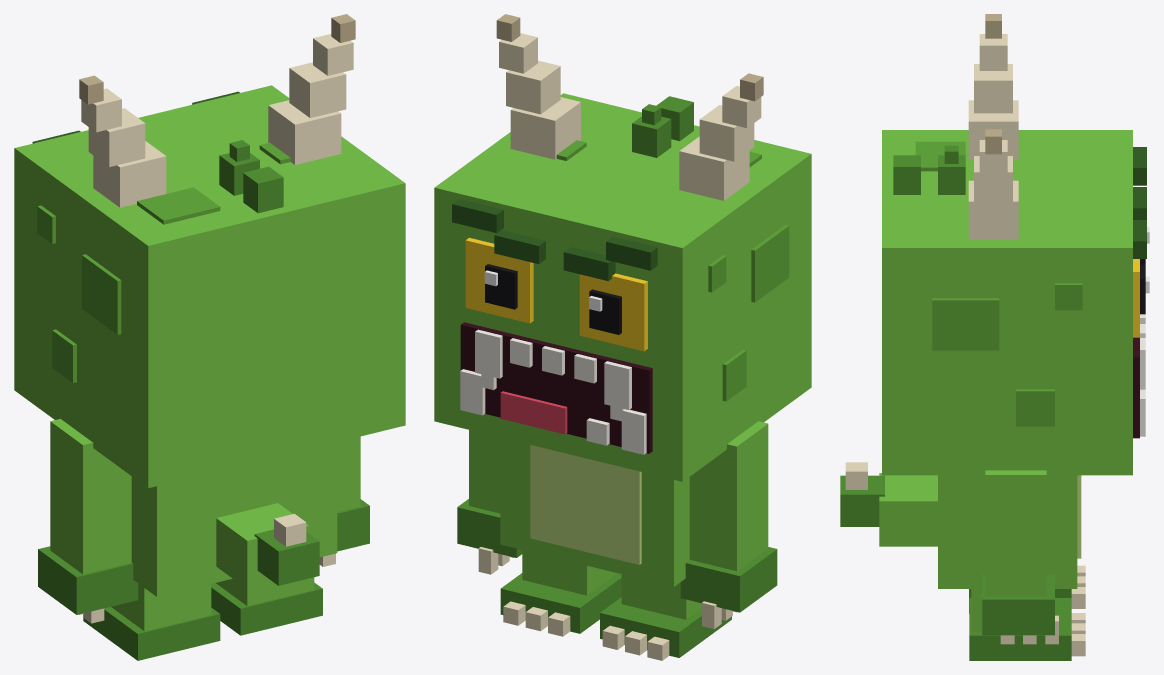
File: CubeMonster.glb
3 views of the same model, side by side, from view 1: azimuth 30°, elevation 25°; view 2: azimuth 150°, elevation 25°; view 3: azimuth 270°, elevation 25° (orthographic). The views are drawn at different scales.
Visible parts, largest first — view 1: CubeMonster; view 2: CubeMonster; view 3: CubeMonster.
Boxes of the visible parts, x1,y1,x2,y2 form: CubeMonster: (14, 14, 405, 660); CubeMonster: (434, 14, 811, 660); CubeMonster: (840, 14, 1149, 660).
Size of the model in its own units: 11.4 by 21.5 by 11.1.
1 material, 1 textured.
